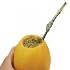guampa: (8, 5, 62, 70)
